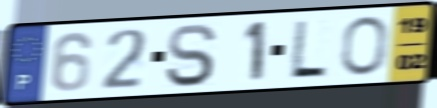1: (241, 18, 269, 85)
2: (100, 27, 150, 92)
6: (49, 29, 95, 94)
L: (285, 18, 330, 79)
O: (340, 14, 389, 78)
S: (163, 21, 220, 89)
